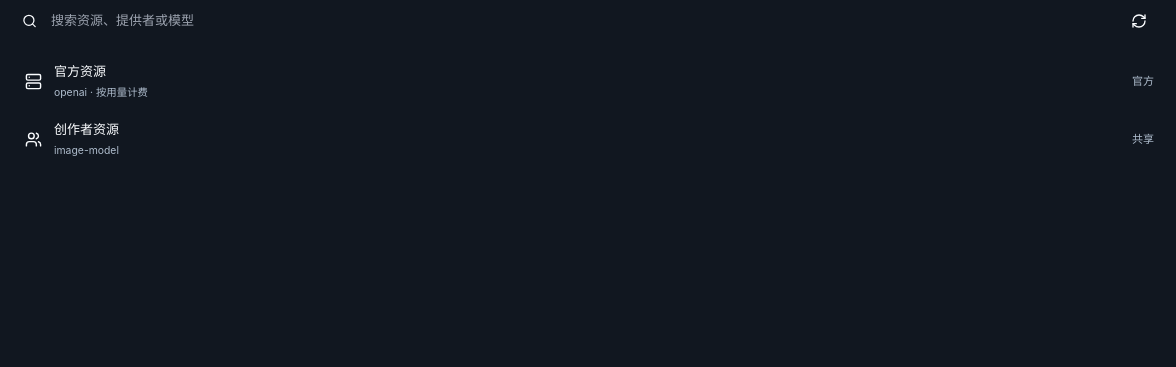
Test: unified resource selection › does not offer joining a full resource
What coordinates should you click on to do the following:
click the button "创作者资源 image-model 共享"
I would click on:
 (87, 129)
Its box is [12,110,1164,168].
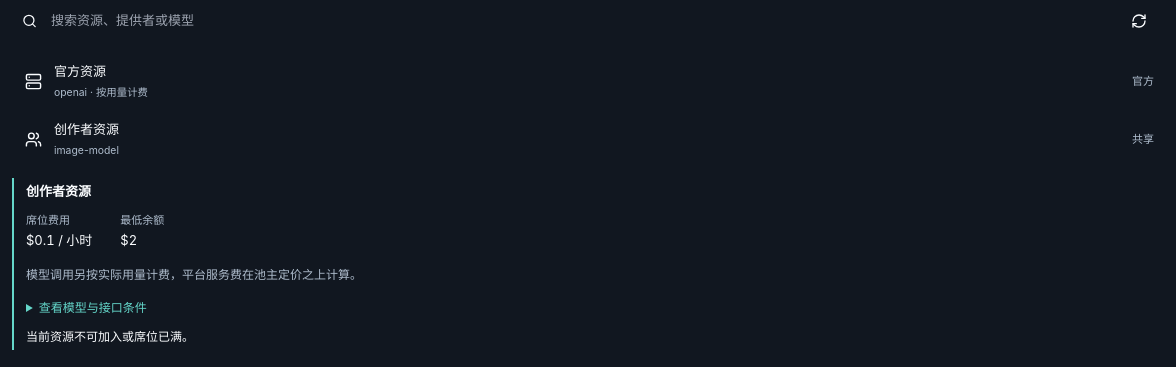
Expected: the text "席位已满" is shown, [26,329,194,344]
